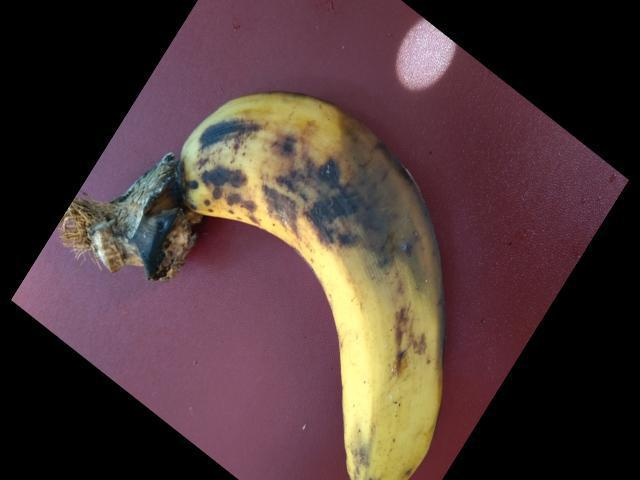rotten: (176, 74, 463, 479)
